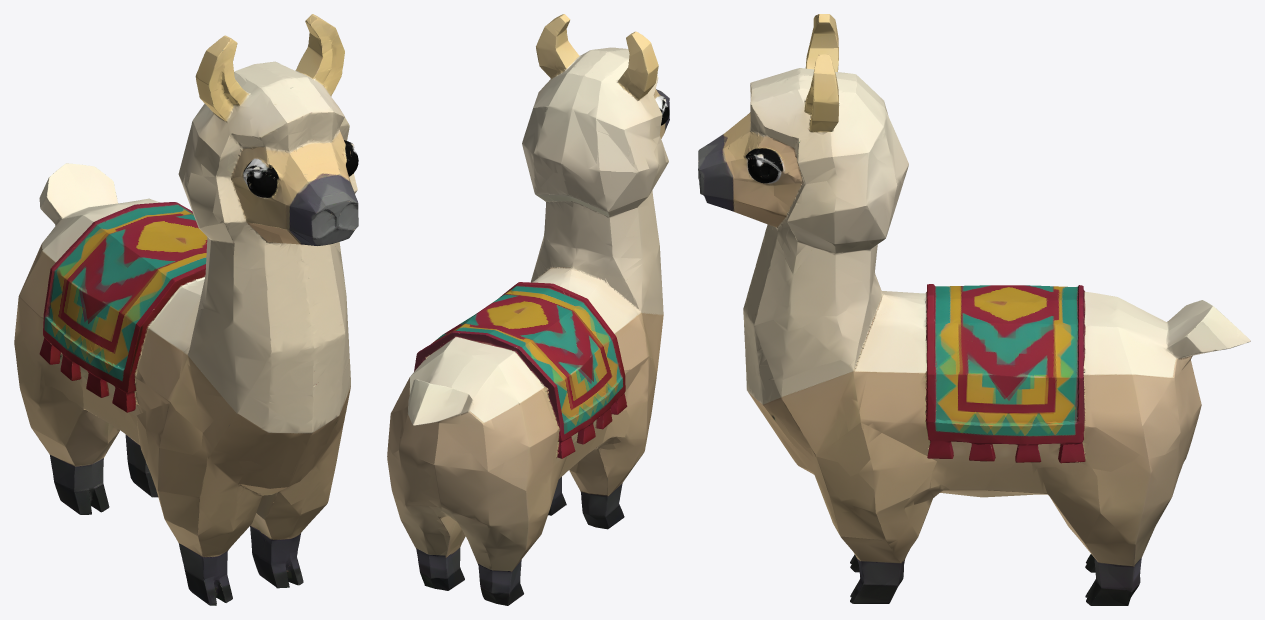
Rendered from 9b1dba6e-7132-47c8-8b29-edc56f923bc1.glb.
The picture shows the model from 3 angles, left to right: view 1: azimuth 30°, elevation 25°; view 2: azimuth 150°, elevation 25°; view 3: azimuth 270°, elevation 25°; orthographic projection. The views are drawn at different scales.
Bounding box in the file's own units: 0.676 × 1.9 × 1.73.
Materials: 1 (1 with a texture image).
